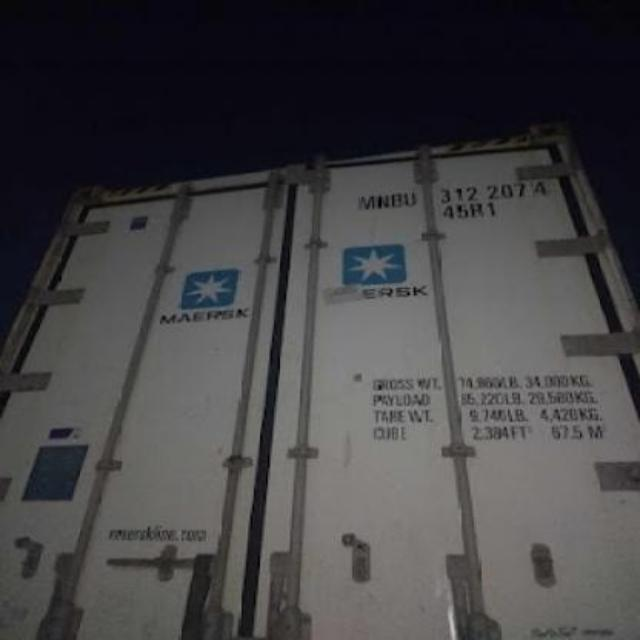0: (501, 183, 514, 201)
1: (454, 186, 466, 202)
2: (464, 186, 482, 202), (486, 184, 499, 200)
3: (438, 188, 450, 202)
4: (534, 180, 546, 196)
7: (512, 180, 528, 198)
B: (392, 191, 404, 209)
M: (358, 194, 376, 210)
N: (374, 192, 392, 208)
U: (404, 192, 418, 208)
